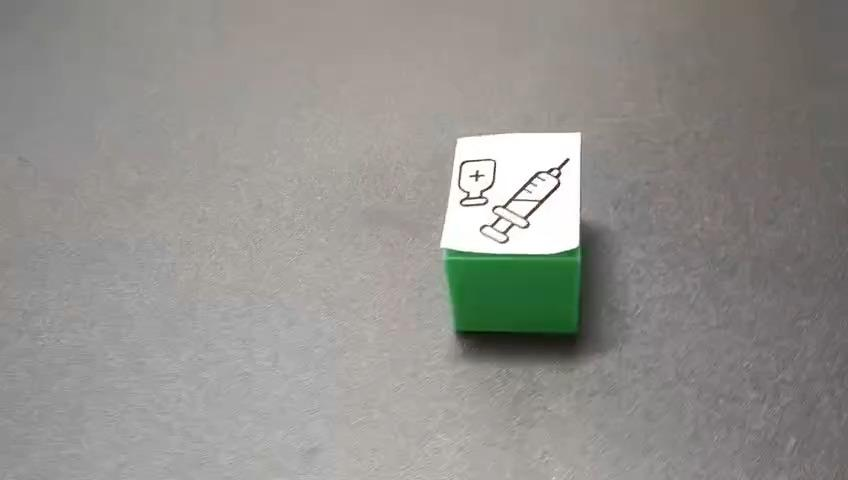antiseptic cream: (438, 130, 583, 338)
